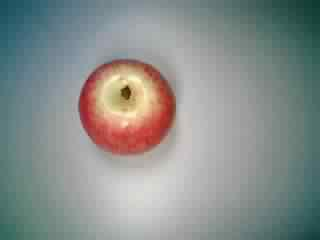apple: (74, 58, 180, 162)
